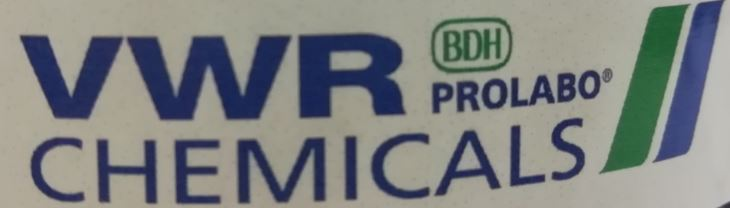VWR: (18, 1, 724, 207)
